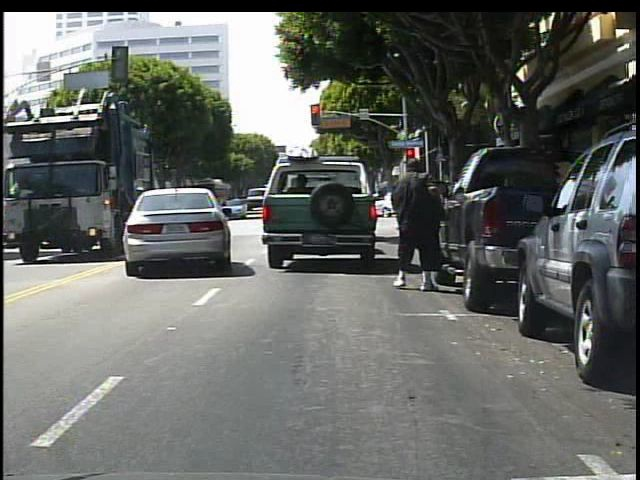person: (388, 158, 446, 294)
